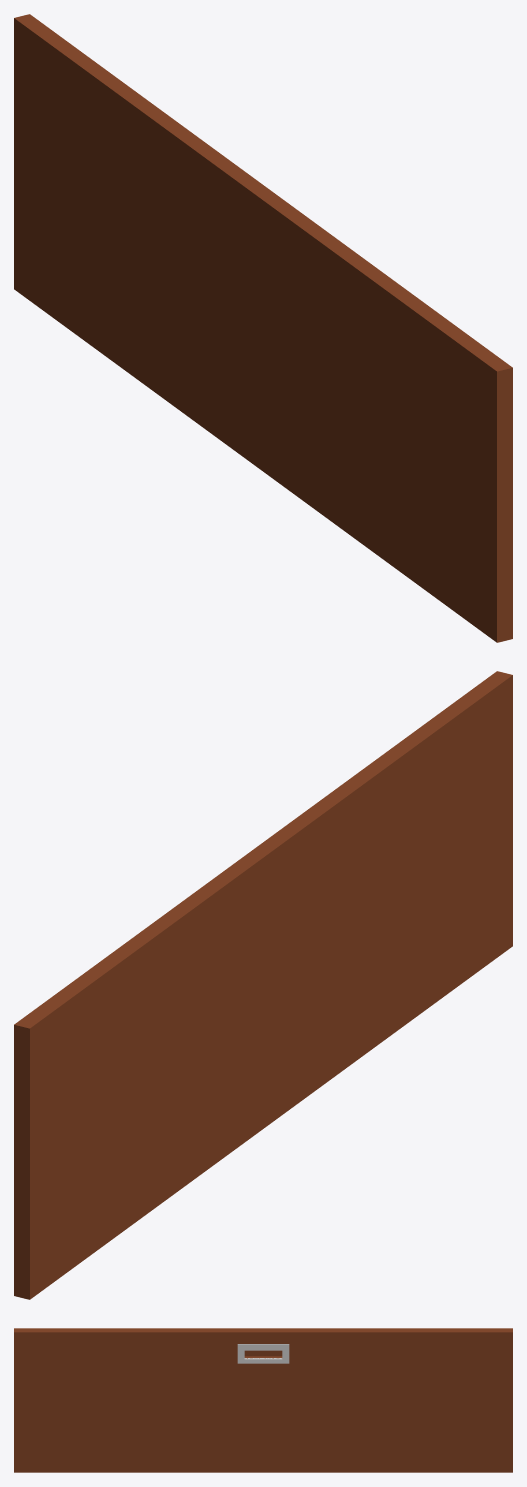
File: ROOM602-SQUARE-600-CLOSET-BODYSET6_link_mesh.dae
3 renders of one model, top to bottom at view 1: azimuth 30°, elevation 25°; view 2: azimuth 150°, elevation 25°; view 3: azimuth 270°, elevation 25°, orthographic. The views are drawn at different scales.
Parts seen in each view (by area): view 1: ROOM602-SQUARE-600-CLOSET-BODYSET6_link; view 2: ROOM602-SQUARE-600-CLOSET-BODYSET6_link; view 3: ROOM602-SQUARE-600-CLOSET-BODYSET6_link (×2).
Part boxes in pixels (x1,y1,x2,y2): ROOM602-SQUARE-600-CLOSET-BODYSET6_link: [14, 14, 512, 642]; ROOM602-SQUARE-600-CLOSET-BODYSET6_link: [14, 671, 512, 1299]; ROOM602-SQUARE-600-CLOSET-BODYSET6_link (×2): [14, 1328, 512, 1472].
Size of the model in its own units: 0.0205 by 0.294 by 0.949.
